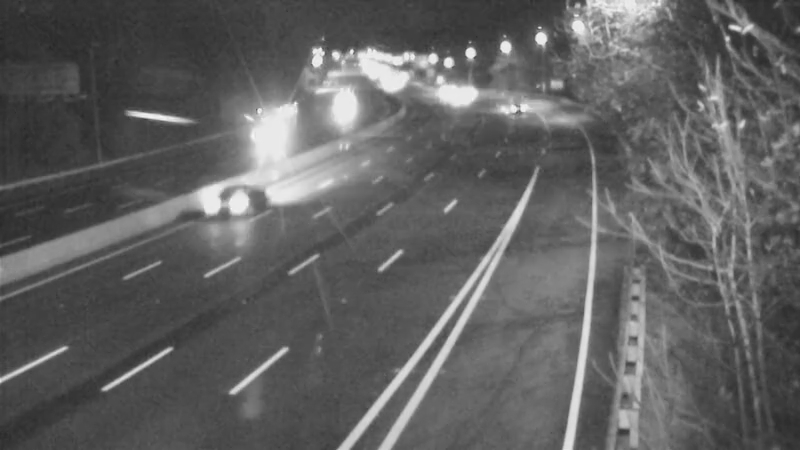vehicle: (196, 167, 276, 247), (414, 69, 464, 119), (442, 68, 492, 118), (426, 75, 476, 125), (491, 80, 541, 130), (229, 113, 279, 163), (312, 80, 362, 130)
